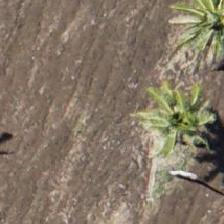coconut_tree: (137, 69, 223, 159), (170, 0, 223, 67)
